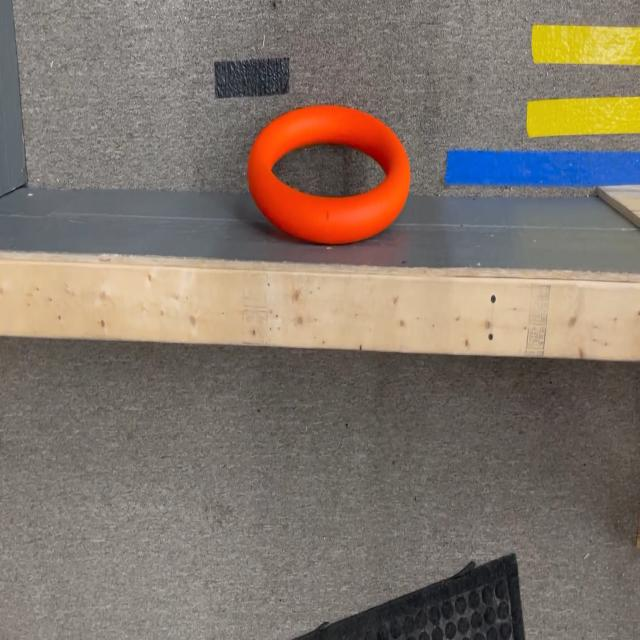note: (248, 102, 411, 245)
